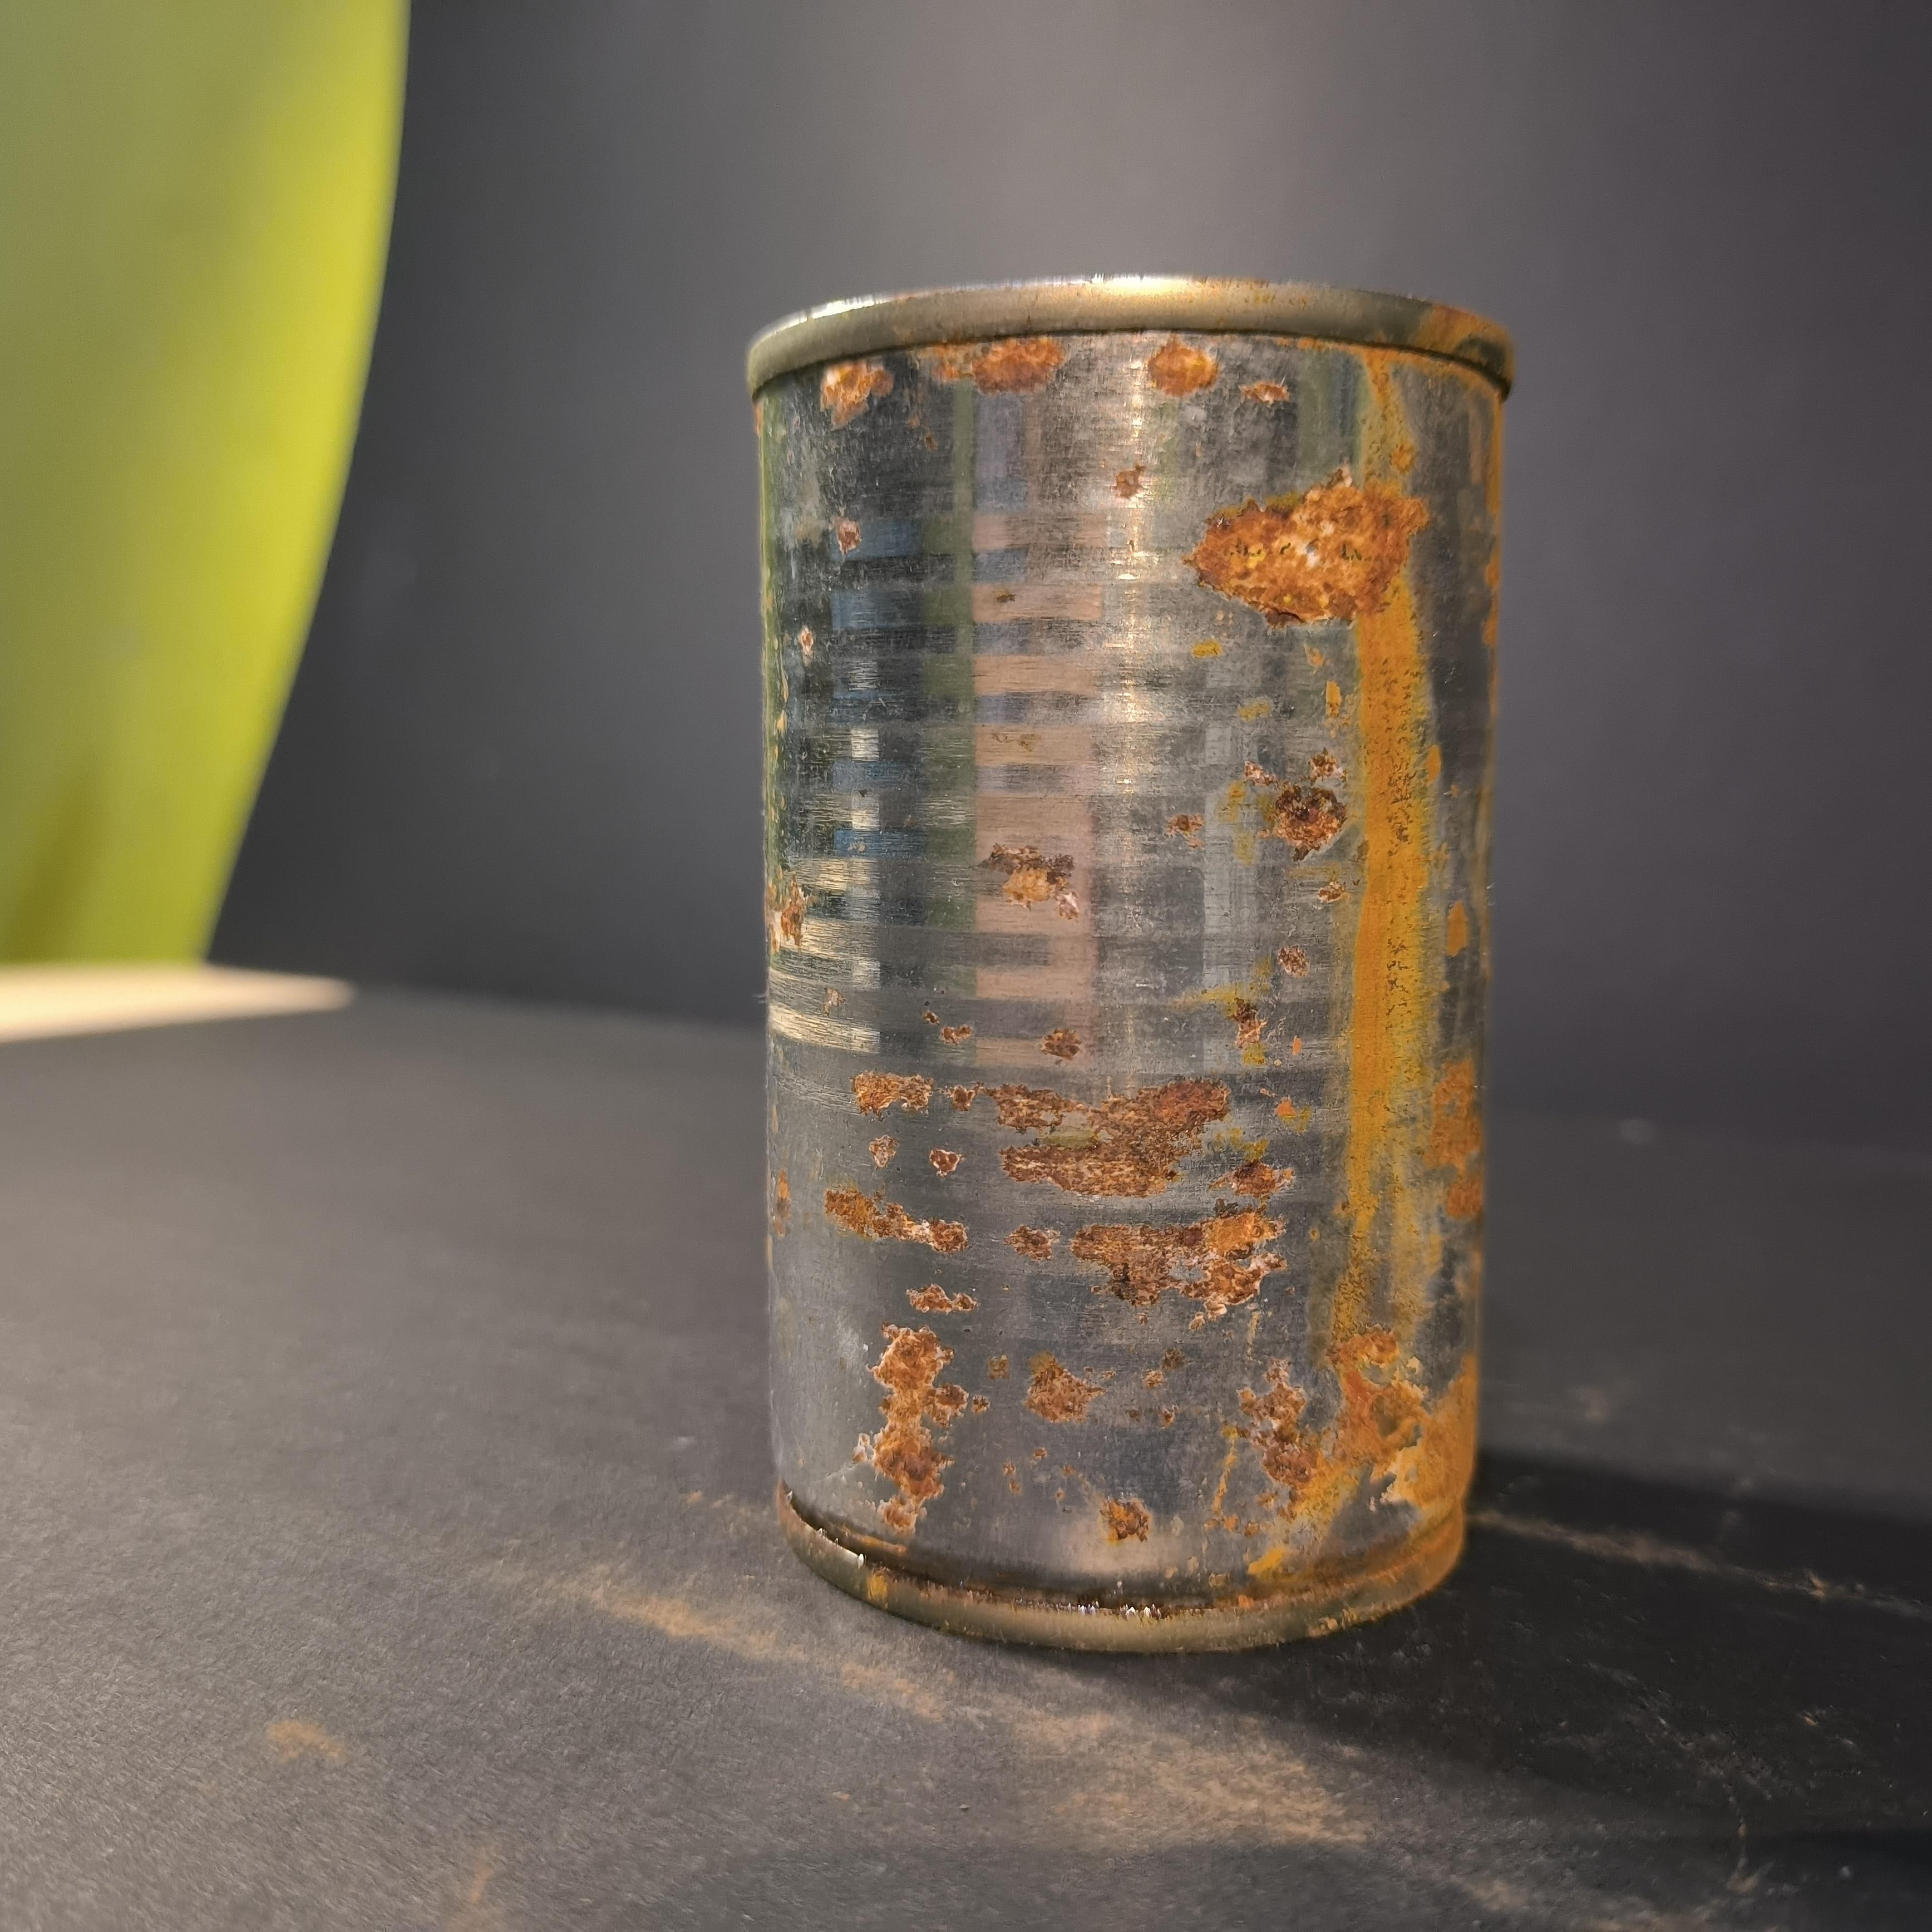Rusted: (735, 256, 1533, 1689)
